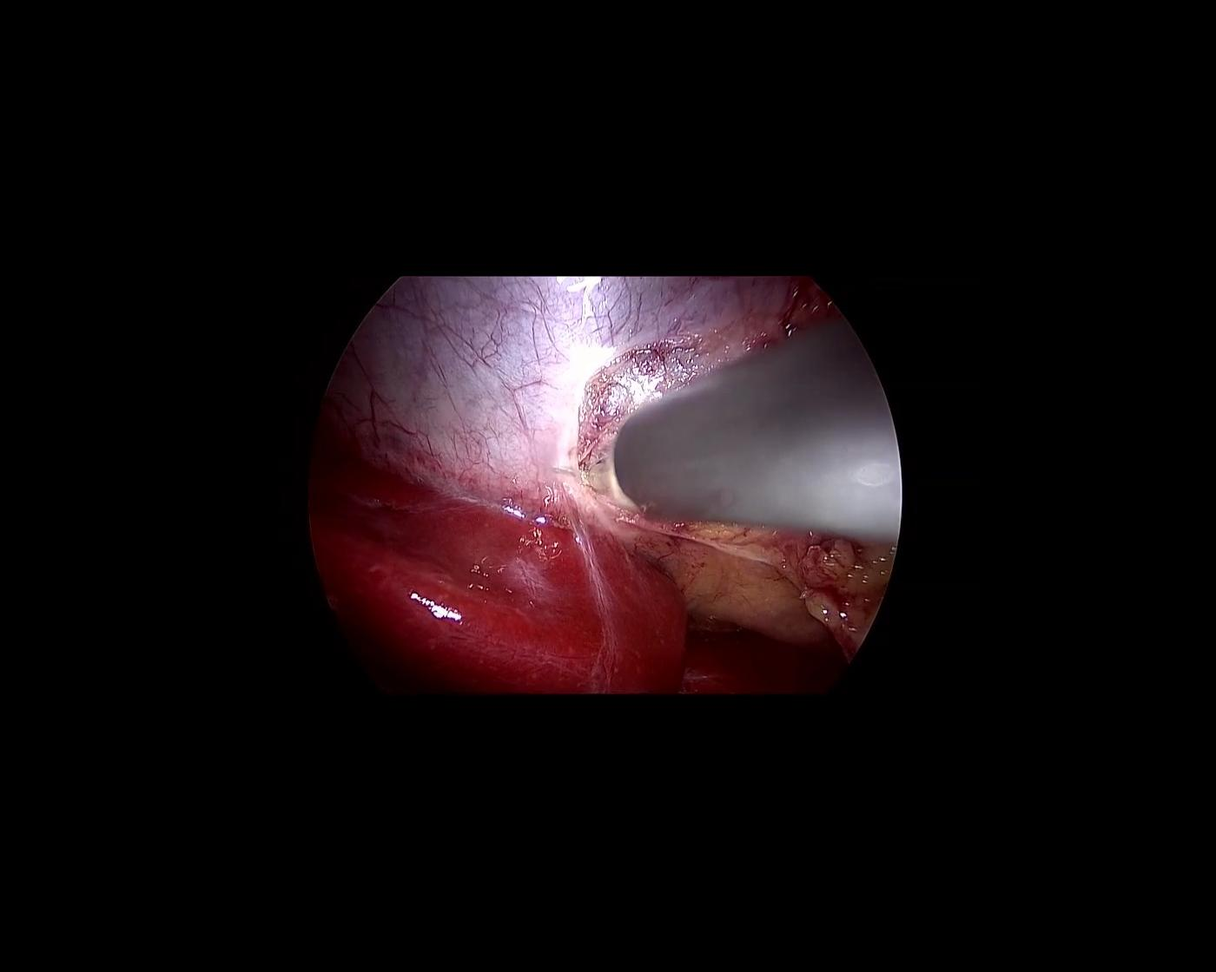Cautery: (546, 314, 940, 656)
Gallbladder: (314, 276, 812, 543)
Liver: (246, 434, 720, 764)
